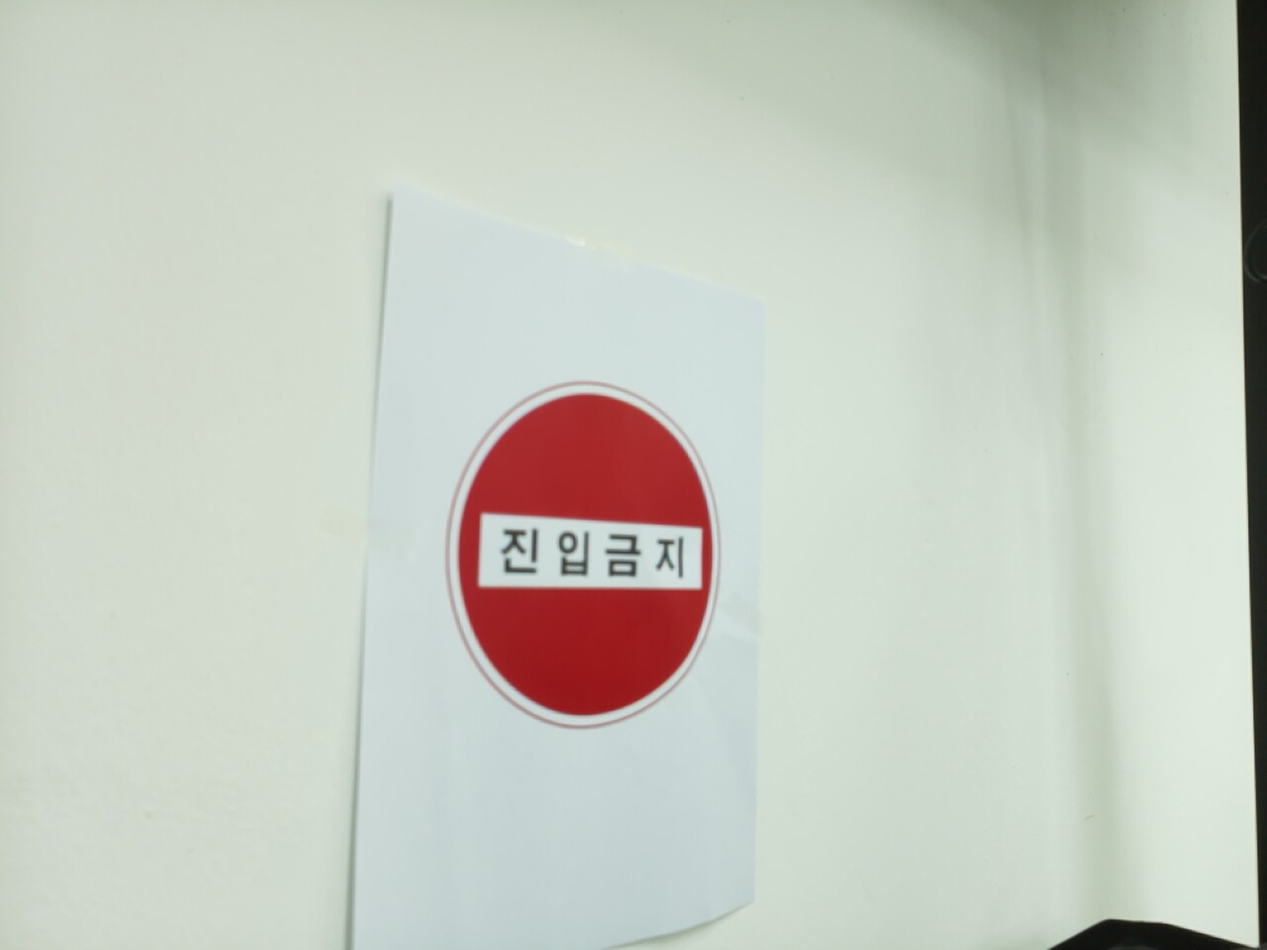do_not_enter: (449, 383, 722, 725)
